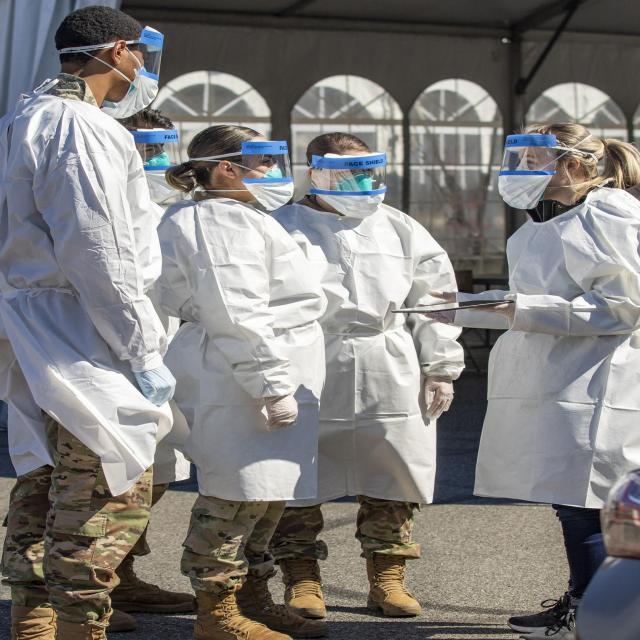Gloves: (420, 376, 456, 422), (140, 366, 181, 406), (418, 290, 458, 328), (264, 395, 300, 434), (493, 298, 515, 317)
Mask: (489, 171, 558, 213), (336, 174, 376, 198), (144, 152, 170, 172), (259, 166, 286, 182)
